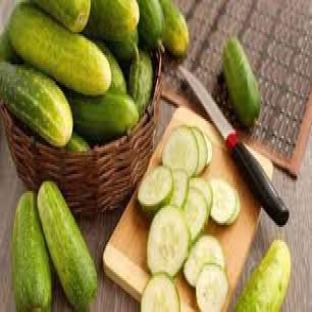Cucumber: (10, 2, 111, 94), (38, 182, 96, 310), (0, 63, 72, 147), (13, 191, 51, 311), (236, 241, 290, 311), (68, 91, 138, 141), (224, 38, 261, 126), (147, 207, 189, 276), (184, 235, 225, 287), (163, 125, 198, 175), (129, 50, 153, 117), (138, 167, 173, 211), (196, 265, 228, 311), (97, 42, 126, 92), (183, 188, 209, 242), (141, 275, 180, 311), (211, 180, 237, 225), (108, 29, 138, 62), (190, 178, 213, 215), (192, 127, 207, 175), (0, 27, 18, 62), (171, 171, 188, 207), (227, 193, 240, 225), (67, 133, 89, 151), (204, 135, 213, 166)
